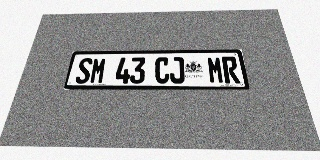3: (130, 57, 145, 84)
4: (115, 57, 131, 84)
C: (155, 57, 169, 84)
J: (170, 57, 185, 83)
M: (89, 58, 107, 84), (207, 57, 225, 83)
R: (221, 56, 240, 83)
S: (74, 58, 93, 84)
